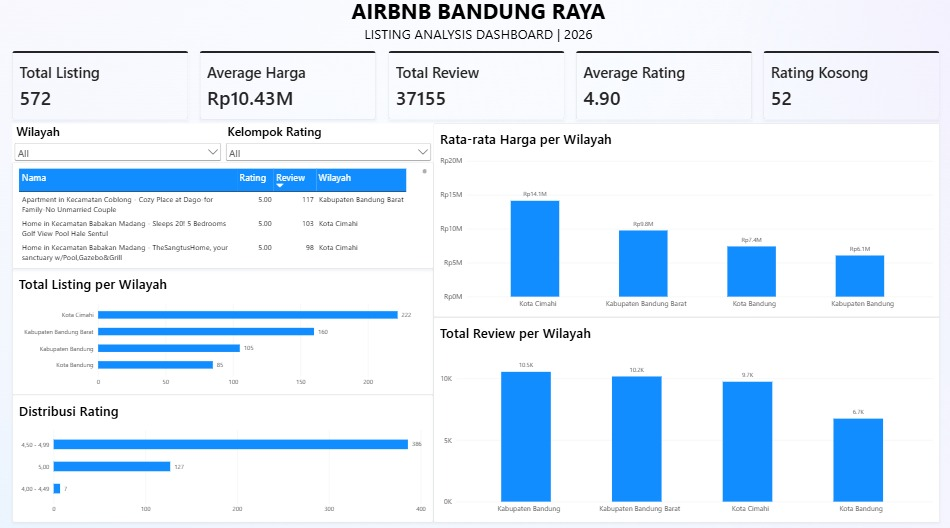

The page's visual inventory and layout, read from the dashboard file:
{"tool":"powerbi","page":{"name":"Page 1","canvas":[1920,1080],"ordinal":0},"visuals":[{"type":"cardVisual","fields":{"Data":["CountNonNull(Airbnb_Cleaned.Listing_ID)"]},"box":[32.5,110,352.5,137.5],"z":0},{"type":"cardVisual","fields":{"Data":["Avg(Airbnb_Cleaned.Rating)"]},"box":[1160,110,352.5,137.5],"z":1000},{"type":"cardVisual","fields":{"Data":["Avg(Airbnb_Cleaned.Harga)"]},"box":[407,110,352.5,137],"z":2000},{"type":"cardVisual","fields":{"Data":["Sum(Airbnb_Cleaned.Jumlah_review)"]},"box":[785,110,352.5,137.5],"z":3000},{"type":"textbox","box":[10.3,0,1910.1,109.1],"z":4000},{"type":"barChart","title":"Total Listing per Wilayah","fields":{"Category":["Airbnb_Cleaned.Wilayah"],"Y":["CountNonNull(Airbnb_Cleaned.Listing_ID)"]},"box":[32.5,545,842.5,252.5],"z":5000},{"type":"barChart","title":"Distribusi Rating","fields":{"Category":["Airbnb_Cleaned.Kelompok_Rating"],"Y":["Airbnb_Cleaned.Total_listing"]},"box":[32.5,797.5,842.5,255],"z":6000},{"type":"columnChart","title":"Rata-rata Harga per Wilayah","fields":{"Category":["Airbnb_Cleaned.Wilayah"],"Y":["Avg(Airbnb_Cleaned.Harga)"]},"box":[875,255,1012.5,387.5],"z":7000},{"type":"clusteredColumnChart","title":"Total Review per Wilayah","fields":{"Category":["Airbnb_Cleaned.Wilayah"],"Y":["Sum(Airbnb_Cleaned.Jumlah_review)"]},"box":[875,642.5,1012.5,410],"z":8000},{"type":"cardVisual","fields":{"Data":["Airbnb_Cleaned.Rating_Kosong"]},"box":[1535,110,352.5,137.5],"z":9000},{"type":"tableEx","fields":{"Values":["Airbnb_Cleaned.Nama","Sum(Airbnb_Cleaned.Rating)","Sum(Airbnb_Cleaned.Jumlah_review)","Airbnb_Cleaned.Wilayah"]},"box":[32.5,332.5,842.5,212.5],"z":10000},{"type":"slicer","fields":{"Values":["Airbnb_Cleaned.Wilayah"]},"box":[32.5,255,422.5,77.5],"z":10001},{"type":"slicer","fields":{"Values":["Airbnb_Cleaned.Kelompok_Rating"]},"box":[455,255,420,77.5],"z":10002}]}

Visuals, with their boxes in screenshot pixels (x1, y1, x2, y2), scaled from the page's 1920x1080 canvas onto the 950x528 screenshot:
cardVisual - CountNonNull(Airbnb_Cleaned.Listing_ID): BBox(16, 54, 190, 121)
cardVisual - Avg(Airbnb_Cleaned.Rating): BBox(574, 54, 748, 121)
cardVisual - Avg(Airbnb_Cleaned.Harga): BBox(201, 54, 376, 121)
cardVisual - Sum(Airbnb_Cleaned.Jumlah_review): BBox(388, 54, 563, 121)
textbox: BBox(5, 0, 949, 53)
"Total Listing per Wilayah" barChart: BBox(16, 266, 433, 390)
"Distribusi Rating" barChart: BBox(16, 390, 433, 515)
"Rata-rata Harga per Wilayah" columnChart: BBox(433, 125, 934, 314)
"Total Review per Wilayah" clusteredColumnChart: BBox(433, 314, 934, 515)
cardVisual - Airbnb_Cleaned.Rating_Kosong: BBox(760, 54, 934, 121)
tableEx - Airbnb_Cleaned.Nama x Sum(Airbnb_Cleaned.Rating): BBox(16, 163, 433, 266)
slicer - Airbnb_Cleaned.Wilayah: BBox(16, 125, 225, 163)
slicer - Airbnb_Cleaned.Kelompok_Rating: BBox(225, 125, 433, 163)
